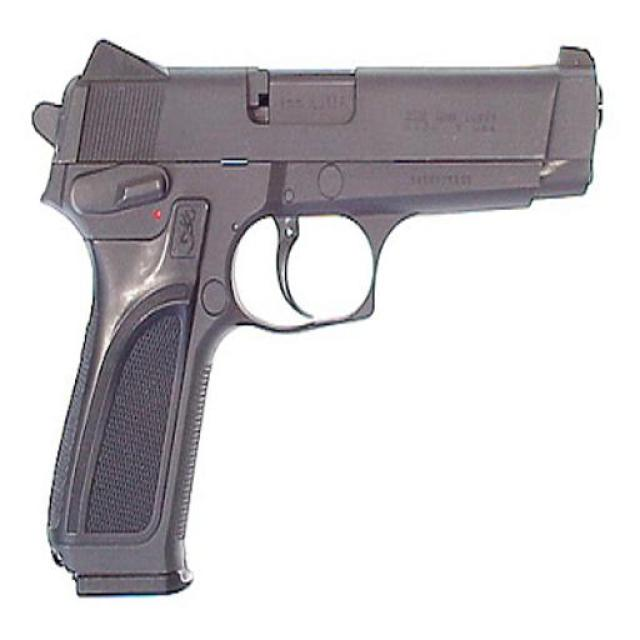pistol: (30, 37, 604, 597)
